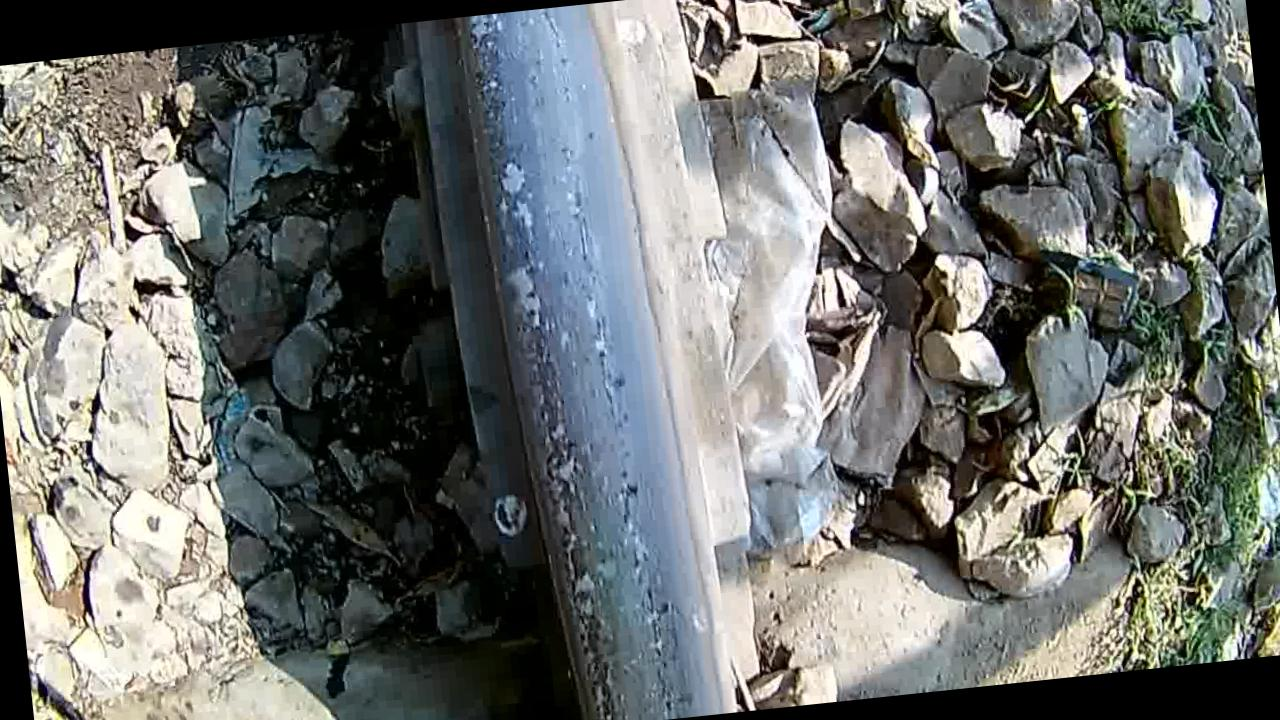clip_missing: (450, 0, 723, 720)
